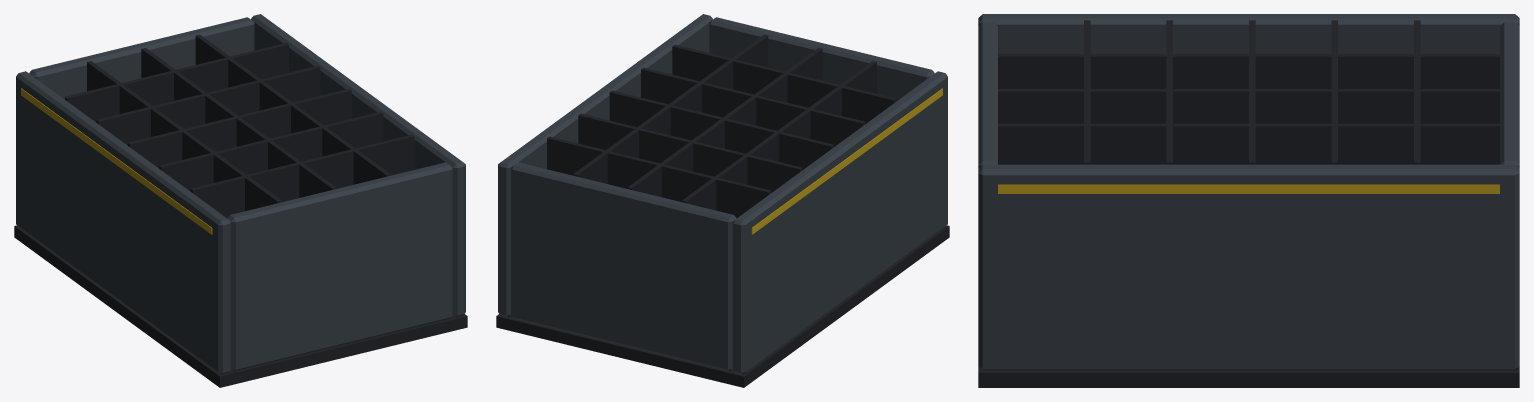
The model's file is bk24_frame.obj.
3 views of the same model, side by side, from view 1: azimuth 30°, elevation 25°; view 2: azimuth 150°, elevation 25°; view 3: azimuth 270°, elevation 25° (orthographic). The views are drawn at different scales.
Parts seen in each view (by area): view 1: bk24_frame; view 2: bk24_frame; view 3: bk24_frame.
Boxes of the visible parts, x1,y1,x2,y2 form: bk24_frame: [14, 14, 467, 387]; bk24_frame: [496, 14, 949, 387]; bk24_frame: [978, 14, 1519, 387].
Bounding box in the file's own units: 2.3 × 1.45 × 3.28.
